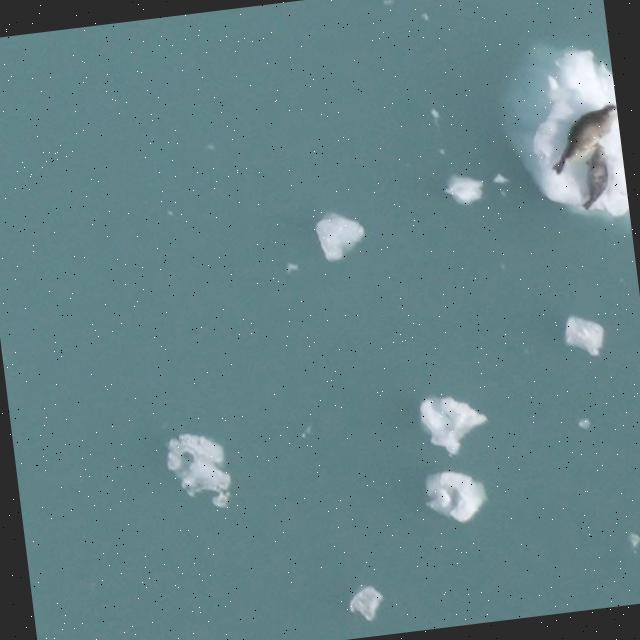seal: (536, 94, 625, 180), (582, 145, 612, 211)
